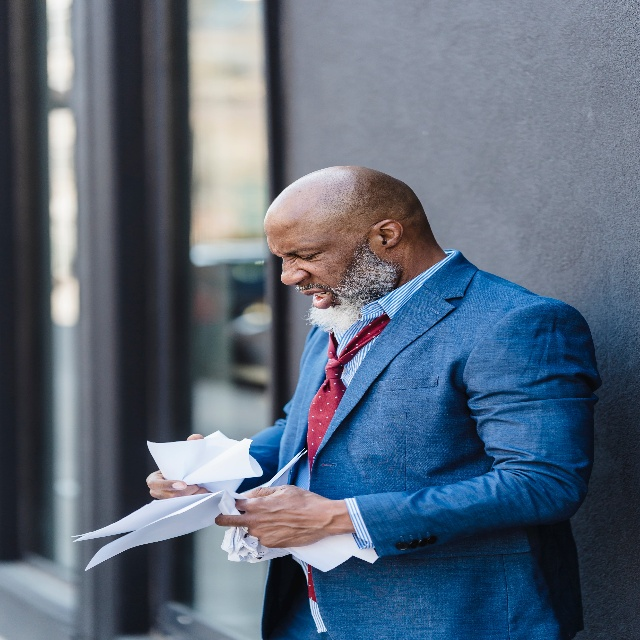Sin_guantes: (213, 485, 327, 549), (146, 431, 210, 499)
